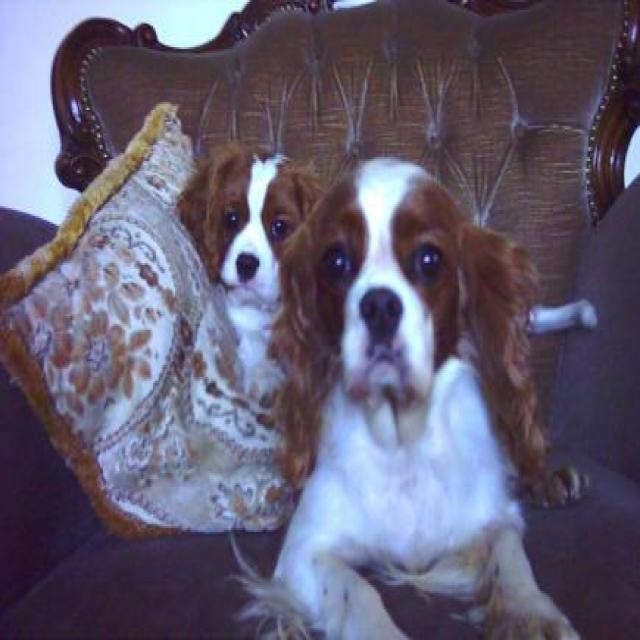blenheim_spaniel: (269, 153, 583, 638), (184, 136, 310, 418)
